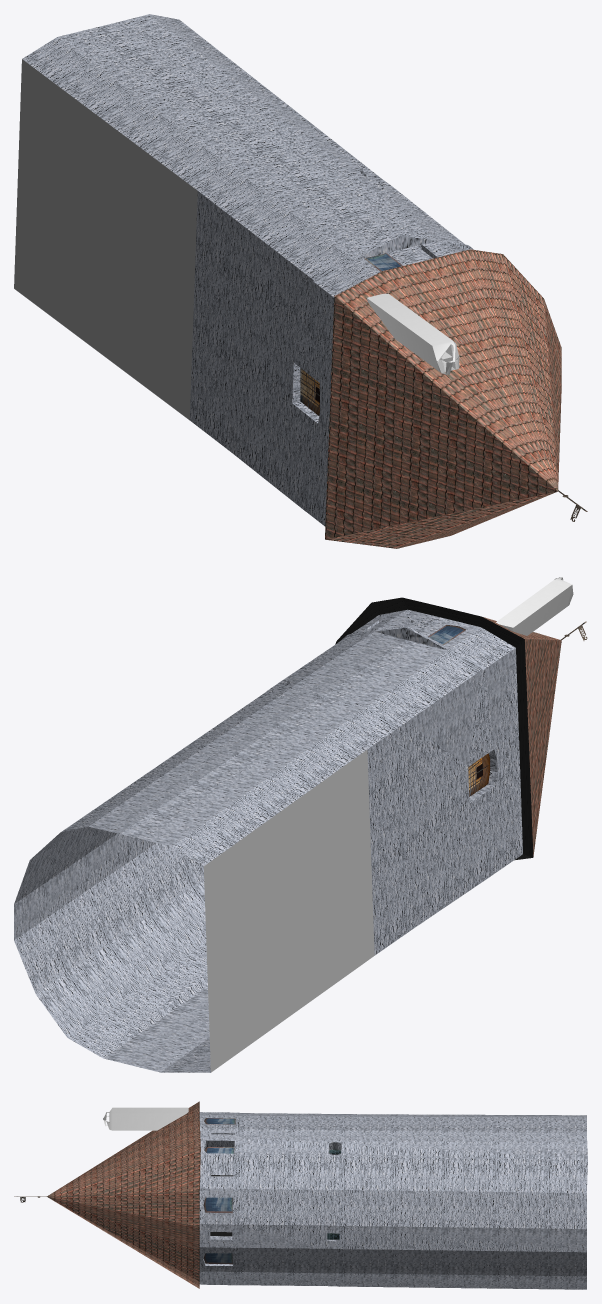
Rendered from Myyrivahe_48-origo.obj.
The picture shows the model from 3 angles, top to bottom: view 1: azimuth 30°, elevation 25°; view 2: azimuth 150°, elevation 25°; view 3: azimuth 270°, elevation 25°; orthographic projection. The views are drawn at different scales.
Visible parts, largest first — view 1: myyrivahe_48, xxx; view 2: myyrivahe_48, xxx; view 3: myyrivahe_48.
Boxes of the visible parts, left/top/right/bottom form: myyrivahe_48: left=22, top=14, right=587, bottom=548; xxx: left=14, top=59, right=197, bottom=419; myyrivahe_48: left=14, top=577, right=587, bottom=1072; xxx: left=203, top=750, right=374, bottom=1072; myyrivahe_48: left=14, top=1101, right=587, bottom=1289.
Size of the model in its own units: 9.5 by 10.5 by 33.59.
